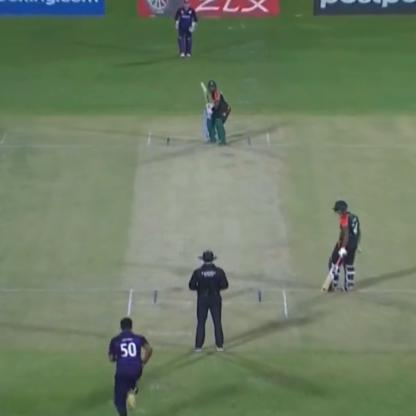pitch: (131, 127, 293, 332)
